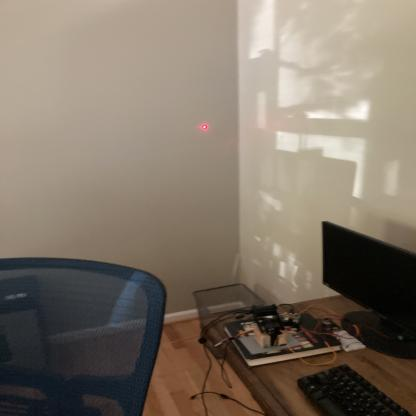target: (198, 122, 209, 129)
